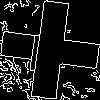I: (25, 25, 45, 72)
